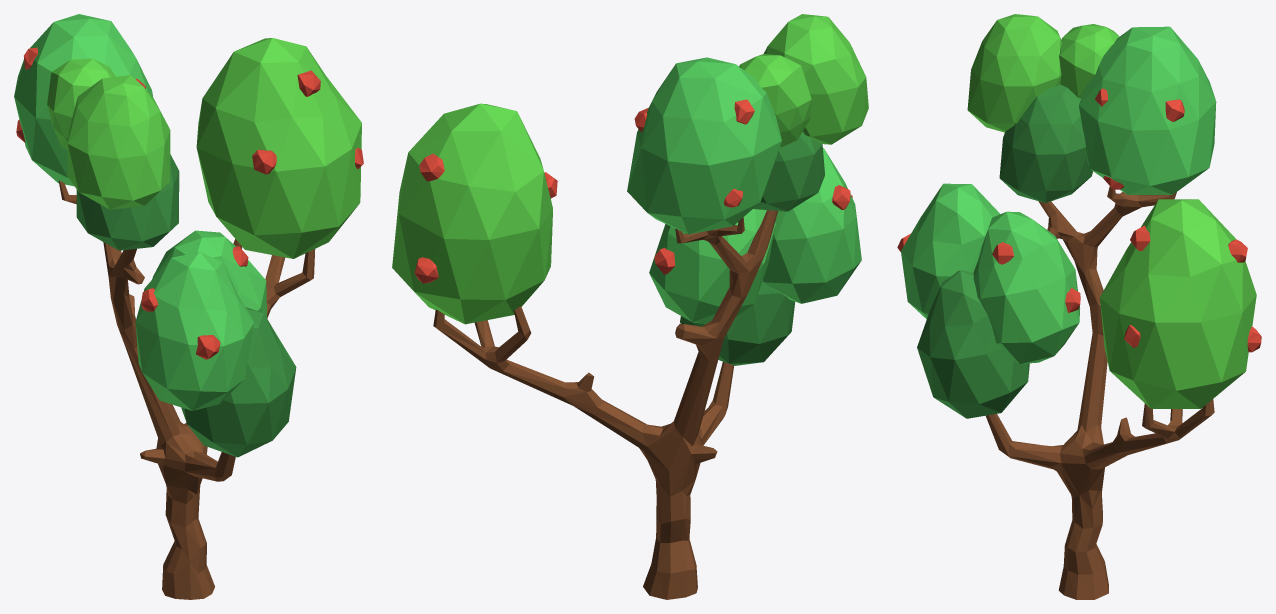
Rendered from tree7.fbx.
The picture shows the model from 3 angles, left to right: view 1: azimuth 30°, elevation 25°; view 2: azimuth 150°, elevation 25°; view 3: azimuth 270°, elevation 25°; orthographic projection. The views are drawn at different scales.
Visible parts, largest first — view 1: tree7_leaves, tree7_trunk; view 2: tree7_leaves, tree7_trunk; view 3: tree7_leaves, tree7_trunk.
Part boxes in pixels (left/top/right/bottom): tree7_leaves: left=14, top=14, right=363, bottom=457; tree7_trunk: left=58, top=180, right=315, bottom=599; tree7_leaves: left=392, top=14, right=868, bottom=365; tree7_trunk: left=433, top=210, right=777, bottom=599; tree7_leaves: left=897, top=14, right=1261, bottom=418; tree7_trunk: left=986, top=186, right=1214, bottom=599.
Bounding box in the file's own units: 2.25 × 3.3 × 2.07.
